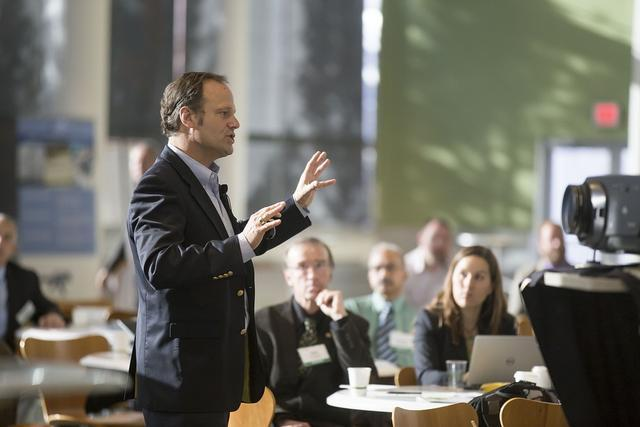no-phone: (291, 148, 339, 207), (242, 199, 286, 249)
